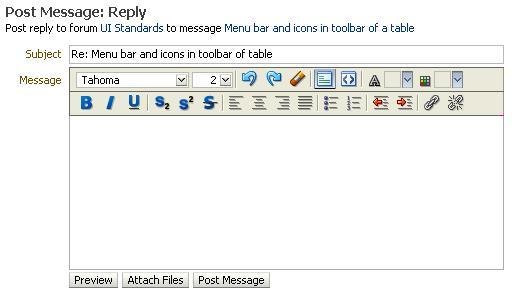button: (194, 273, 271, 289), (123, 273, 190, 289), (70, 273, 119, 289)
dropdown: (78, 73, 190, 89), (193, 73, 234, 88)
icon: (313, 70, 337, 91), (127, 94, 147, 114), (239, 71, 261, 89), (77, 95, 98, 113), (373, 95, 392, 114), (265, 71, 286, 88), (153, 95, 172, 113), (423, 94, 441, 113), (447, 94, 466, 112), (366, 71, 384, 90), (201, 95, 221, 112), (397, 96, 417, 113), (177, 94, 195, 112), (323, 96, 341, 114), (252, 95, 270, 113), (104, 94, 120, 114), (347, 95, 364, 113), (298, 96, 316, 113), (229, 95, 247, 112), (274, 96, 293, 112), (418, 73, 435, 89), (342, 71, 358, 88)
label: (17, 72, 66, 91), (22, 44, 66, 65), (289, 71, 309, 89)
